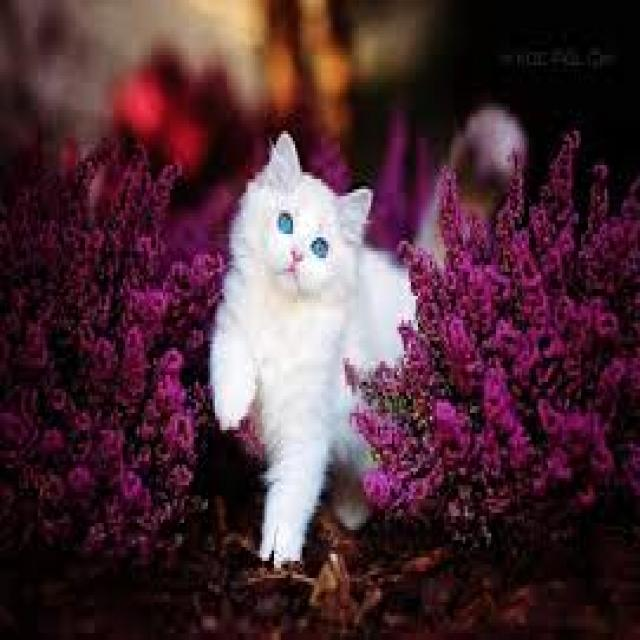Cat: (210, 123, 428, 574)
